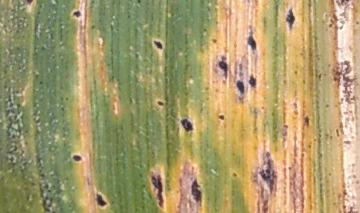tarspot: (261, 151, 275, 192), (149, 173, 165, 208), (190, 177, 203, 202), (285, 6, 295, 31), (179, 117, 194, 131), (218, 59, 228, 79), (95, 193, 108, 207), (234, 79, 245, 95), (248, 73, 258, 89), (247, 36, 257, 51), (152, 39, 163, 50), (70, 9, 81, 19), (70, 153, 82, 162), (303, 113, 311, 126), (217, 113, 225, 121), (157, 100, 165, 107), (231, 172, 238, 178), (338, 1, 346, 6), (38, 78, 43, 86), (25, 1, 34, 5), (90, 24, 96, 30), (212, 39, 218, 44), (64, 96, 70, 101), (136, 1, 142, 5)
